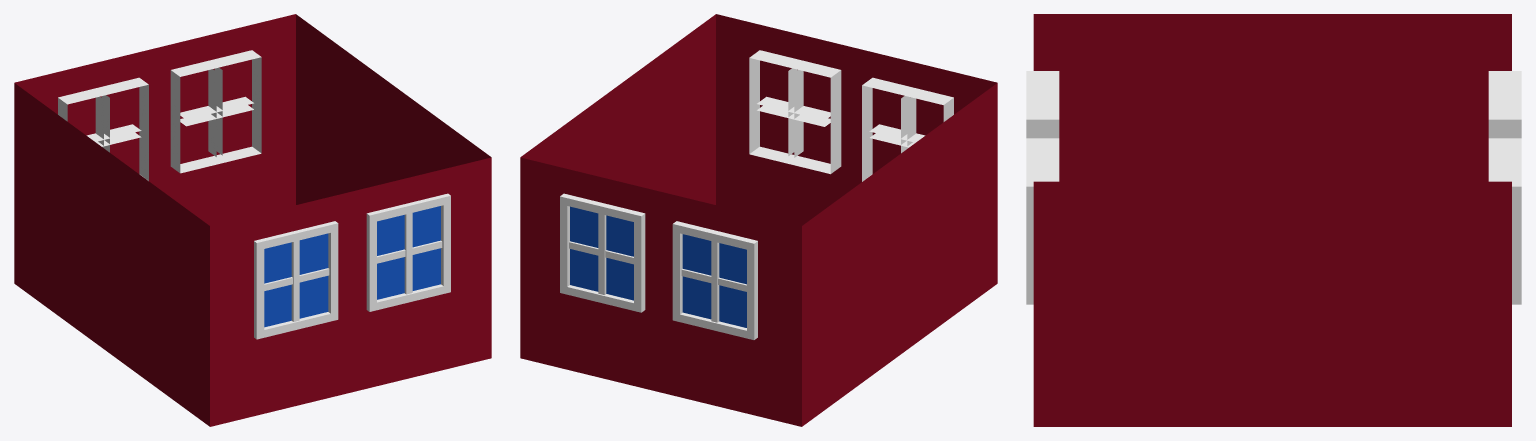
The model's file is CityBuildingA_02_flooor.fbx.
3 renders of one model, left to right at view 1: azimuth 30°, elevation 25°; view 2: azimuth 150°, elevation 25°; view 3: azimuth 270°, elevation 25°, orthographic. The views are drawn at different scales.
Visible parts, largest first — view 1: CityBuildingA_02_flooor; view 2: CityBuildingA_02_flooor; view 3: CityBuildingA_02_flooor.
Boxes of the visible parts, bbox=[...] form: CityBuildingA_02_flooor: bbox=[14, 14, 491, 426]; CityBuildingA_02_flooor: bbox=[520, 14, 997, 426]; CityBuildingA_02_flooor: bbox=[1026, 14, 1521, 426].
Bounding box in the file's own units: 0.4513 × 0.3075 × 0.563.
